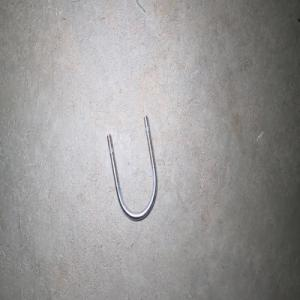ClampPart: (106, 115, 157, 221)
